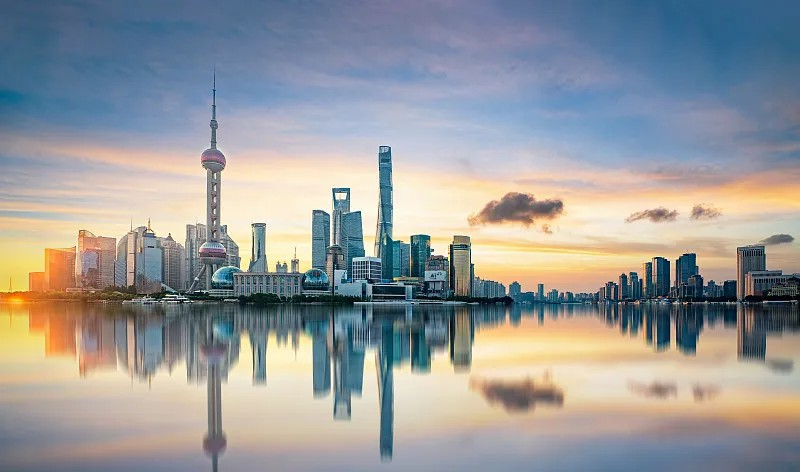Oriental: (187, 67, 227, 291)
